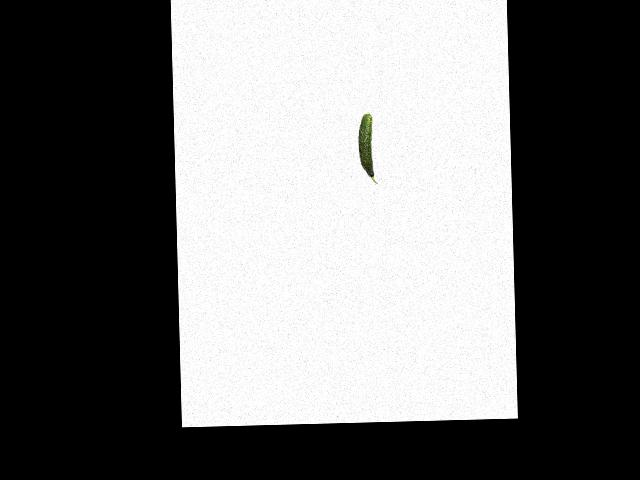cucumber: (357, 113, 377, 185)
